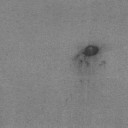iron sheet ash: (82, 45, 100, 58), (84, 60, 90, 68), (76, 54, 80, 58)
